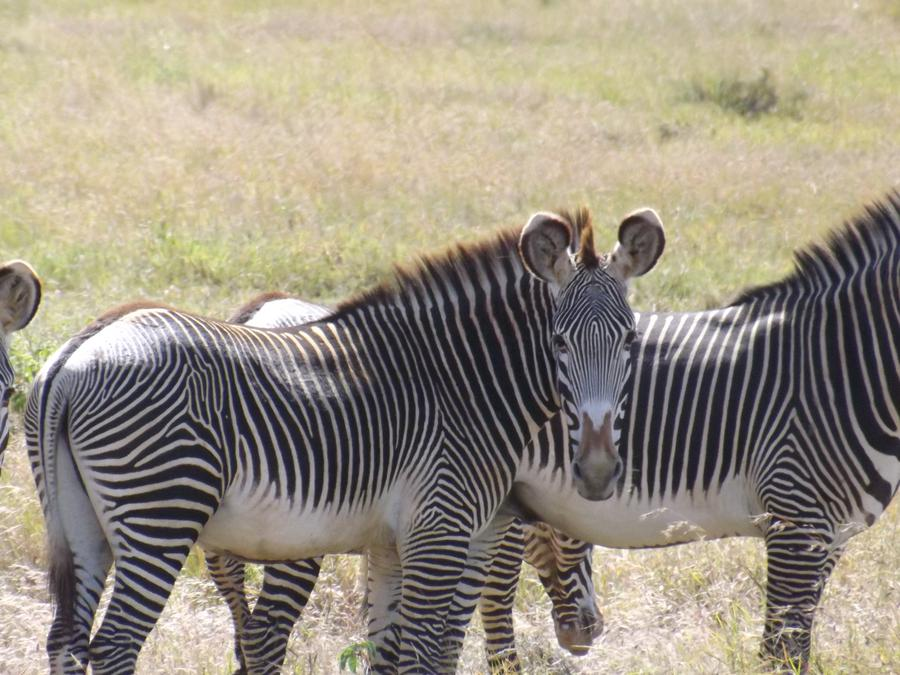zebra_grevys: (48, 282, 472, 549)
